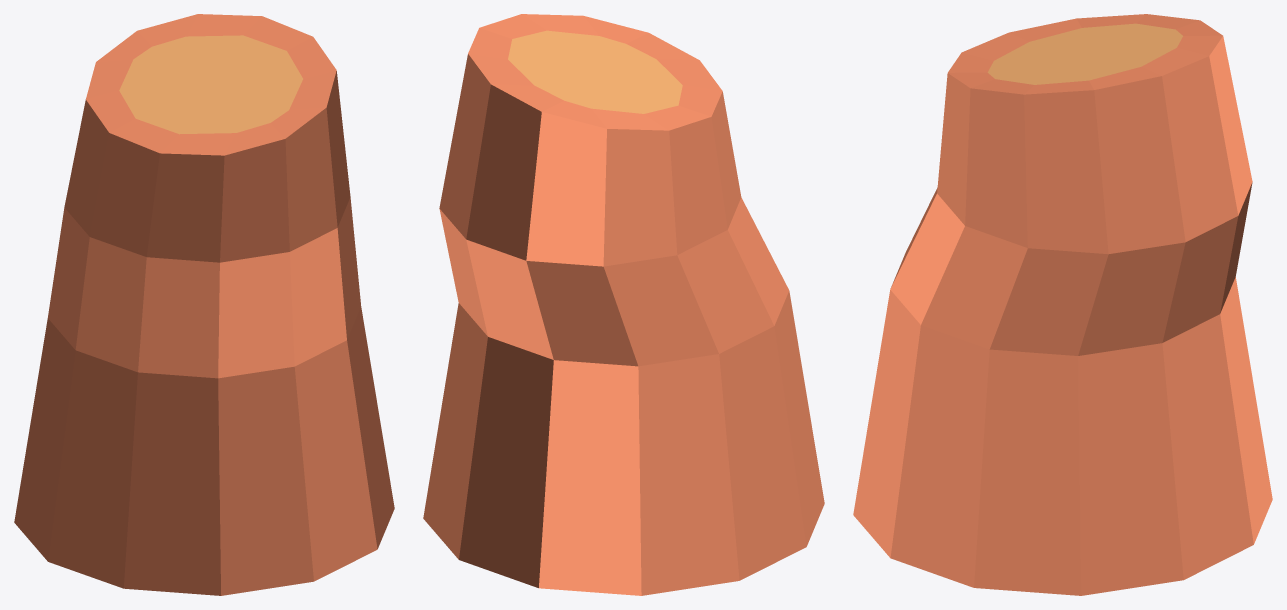
The model's file is Stump5_summer.FBX.
3 renders of one model, left to right at view 1: azimuth 30°, elevation 25°; view 2: azimuth 150°, elevation 25°; view 3: azimuth 270°, elevation 25°, orthographic. The views are drawn at different scales.
Visible parts, largest first — view 1: Palm_srt; view 2: Palm_srt; view 3: Palm_srt.
Boxes of the visible parts, left/top/right/bottom form: Palm_srt: left=14, top=14, right=394, bottom=595; Palm_srt: left=423, top=14, right=824, bottom=595; Palm_srt: left=853, top=14, right=1272, bottom=595.
Bounding box in the file's own units: 0.5671 × 0.7259 × 0.5671.
